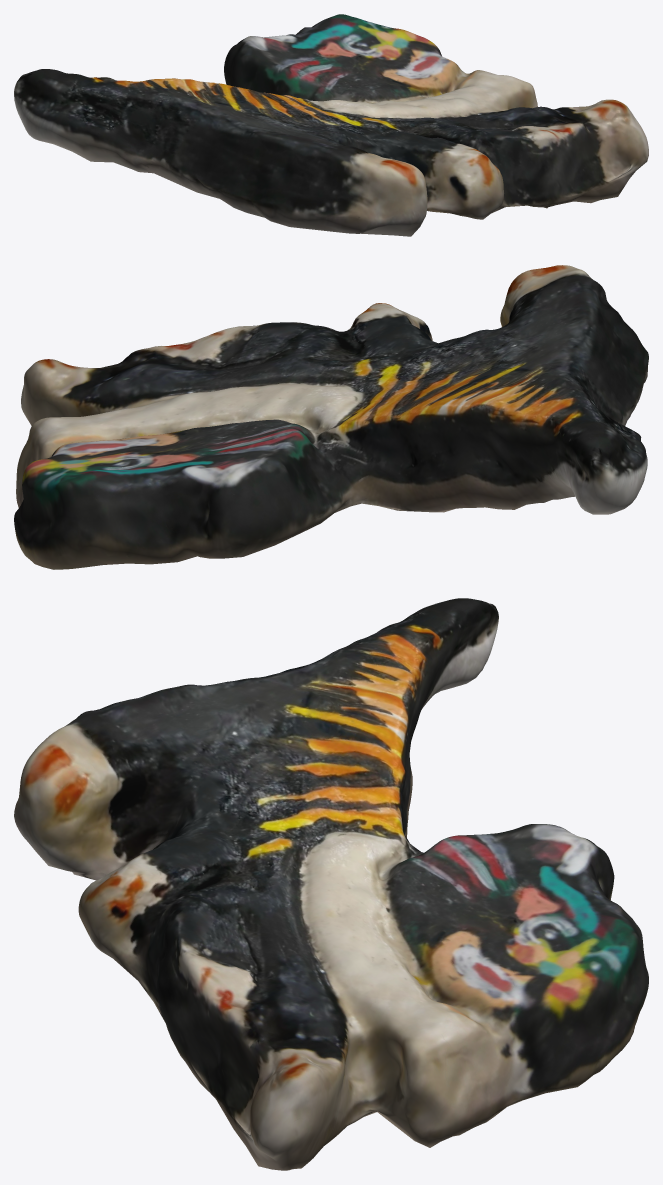
The picture shows the model from 3 angles, top to bottom: view 1: azimuth 30°, elevation 25°; view 2: azimuth 150°, elevation 25°; view 3: azimuth 270°, elevation 25°; orthographic projection. The views are drawn at different scales.
Size of the model in its own units: 0.7726 by 0.2593 by 0.5789.
Materials: 1 (1 with a texture image).
